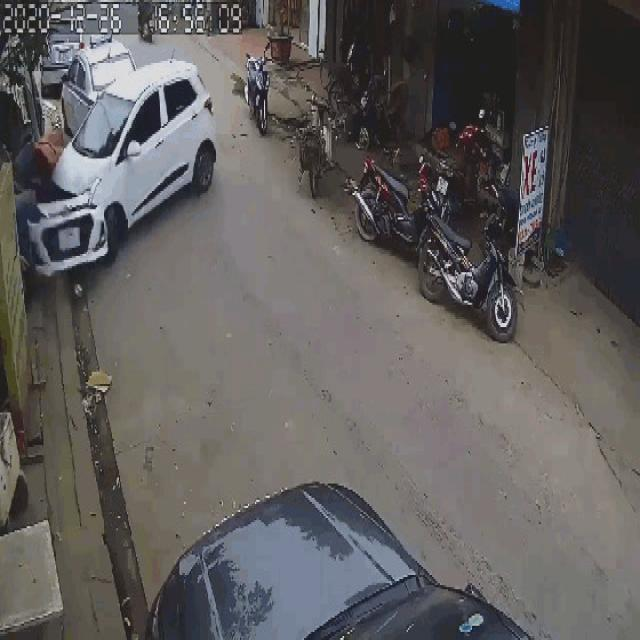multiple_accident: (15, 40, 221, 295)
normal: (347, 148, 523, 351), (242, 44, 338, 203)
